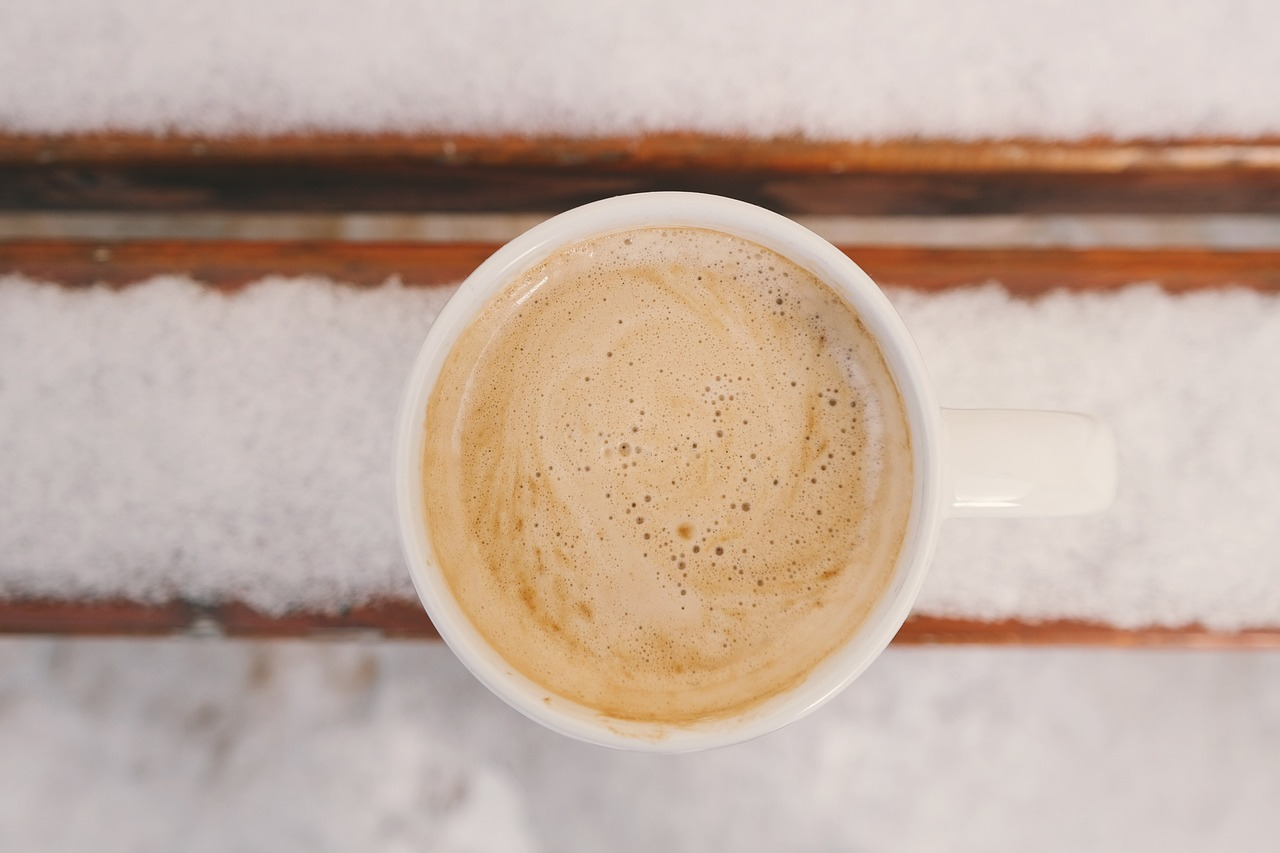mug: (369, 181, 1124, 742)
